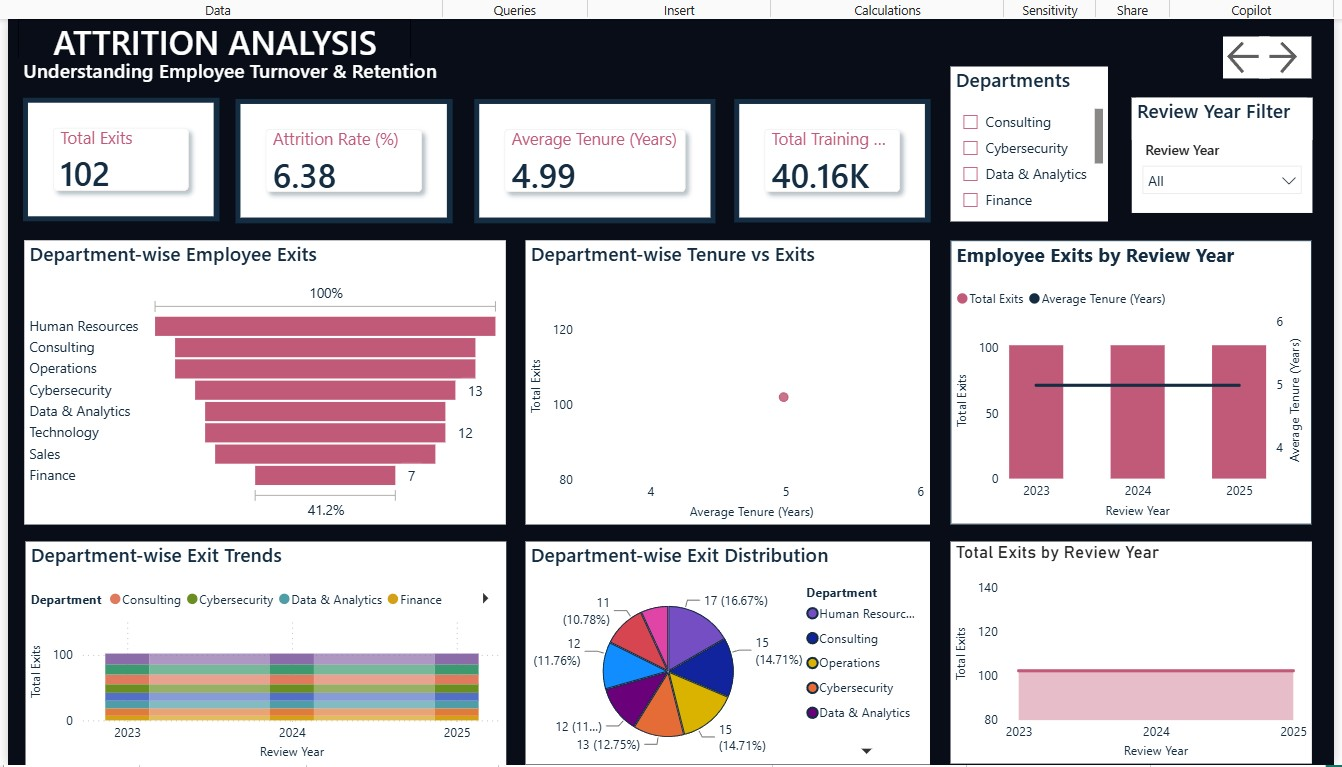

The dashboard page shown, as its layout file describes it:
{"tool":"powerbi","page":{"name":"Attrition Analysis","canvas":[1280,720],"ordinal":1},"visuals":[{"type":"textbox","title":"ATTRITION ANALYSIS","box":[9.7,0,378.8,56.7],"z":0},{"type":"textbox","title":"Understanding Employee Turnover & Retention","box":[9.7,37.4,418.6,38.6],"z":1000},{"type":"cardVisual","fields":{"Data":["Exit_Raw.Total Exits"]},"box":[15,76,189.4,119.4],"z":2000},{"type":"cardVisual","fields":{"Data":["Employee_Master_Raw.Average Tenure (Years)"]},"box":[450,77.3,233.1,119.7],"z":3000},{"type":"cardVisual","fields":{"Data":["Employee_Master_Raw.Attrition Rate (%)"]},"box":[219.4,77.3,209.4,119.7],"z":4000},{"type":"cardVisual","fields":{"Data":["Learning_Raw.Total Training Hours"]},"box":[700.6,77.3,189.4,119.4],"z":5000},{"type":"funnel","title":"Department-wise Employee Exits","fields":{"Category":["Employee_Master_Raw.Department"],"Y":["Exit_Raw.Total Exits"]},"box":[16.2,213.2,465,274.3],"z":6000},{"type":"scatterChart","title":"Department-wise Tenure vs Exits","fields":{"X":["Employee_Master_Raw.Average Tenure (Years)"],"Y":["Exit_Raw.Total Exits"]},"box":[499.9,213.2,390.2,274.3],"z":7000},{"type":"lineClusteredColumnComboChart","title":"Employee Exits by Review Year","fields":{"Category":["Performance_Raw.Review Year"],"Y":["Exit_Raw.Total Exits"],"Y2":["Employee_Master_Raw.Average Tenure (Years)"]},"box":[910,213.2,349,274.3],"z":8000},{"type":"ribbonChart","title":"Department-wise Exit Trends","fields":{"Category":["Performance_Raw.Review Year"],"Y":["Exit_Raw.Total Exits"],"Series":["Employee_Master_Raw.Department"]},"box":[17.5,504.9,463.7,215.7],"z":9000},{"type":"pieChart","title":"Department-wise Exit Distribution","fields":{"Category":["Employee_Master_Raw.Department"],"Y":["Exit_Raw.Total Exits"]},"box":[499.5,504.3,390,215],"z":10000},{"type":"areaChart","fields":{"Category":["Performance_Raw.Review Year"],"Y":["Exit_Raw.Total Exits"]},"box":[910,504.9,349,214.4],"z":11000},{"type":"slicer","title":"Departments","fields":{"Values":["Recruitment_Raw.Department"]},"box":[910,46.1,152.1,149.6],"z":12000},{"type":"slicer","title":"Review Year Filter","fields":{"Values":["Performance_Raw.Review Year"]},"box":[1085.2,76.1,174.2,111],"z":13000},{"type":"actionButton","box":[1207.4,17.4,50.6,40.5],"z":14000},{"type":"actionButton","box":[1172.7,17.4,44.8,40.5],"z":15000}]}

Visuals, with their boxes in screenshot pixels (x1, y1, x2, y2):
"ATTRITION ANALYSIS" textbox: left=17, top=17, right=409, bottom=76
"Understanding Employee Turnover & Retention" textbox: left=17, top=56, right=450, bottom=96
cardVisual - Exit_Raw.Total Exits: left=22, top=96, right=218, bottom=220
cardVisual - Employee_Master_Raw.Average Tenure (Years): left=472, top=97, right=713, bottom=221
cardVisual - Employee_Master_Raw.Attrition Rate (%): left=234, top=97, right=450, bottom=221
cardVisual - Learning_Raw.Total Training Hours: left=731, top=97, right=927, bottom=221
"Department-wise Employee Exits" funnel: left=24, top=238, right=505, bottom=522
"Department-wise Tenure vs Exits" scatterChart: left=524, top=238, right=927, bottom=522
"Employee Exits by Review Year" lineClusteredColumnComboChart: left=948, top=238, right=1309, bottom=522
"Department-wise Exit Trends" ribbonChart: left=25, top=540, right=505, bottom=763
"Department-wise Exit Distribution" pieChart: left=523, top=539, right=927, bottom=761
areaChart - Performance_Raw.Review Year x Exit_Raw.Total Exits: left=948, top=540, right=1309, bottom=761
"Departments" slicer: left=948, top=65, right=1105, bottom=220
"Review Year Filter" slicer: left=1129, top=96, right=1309, bottom=211
actionButton: left=1255, top=35, right=1308, bottom=77
actionButton: left=1219, top=35, right=1266, bottom=77
